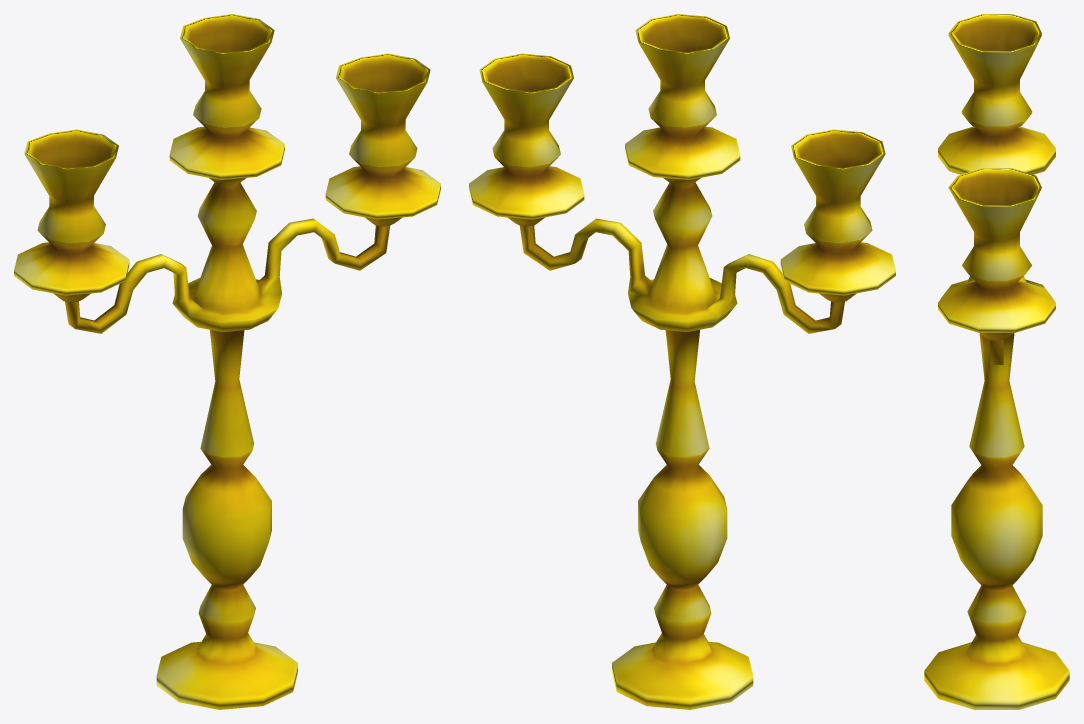
Rendered from candelabrum_06.fbx.
3 renders of one model, left to right at view 1: azimuth 30°, elevation 25°; view 2: azimuth 150°, elevation 25°; view 3: azimuth 270°, elevation 25°, orthographic.
Visible parts, largest first — view 1: candelabrum_06; view 2: candelabrum_06; view 3: candelabrum_06.
Boxes of the visible parts, x1,y1,x2,y2 form: candelabrum_06: [14, 14, 440, 709]; candelabrum_06: [469, 14, 895, 709]; candelabrum_06: [924, 14, 1069, 709].
Size of the model in its own units: 19.04 by 28.74 by 5.83.
